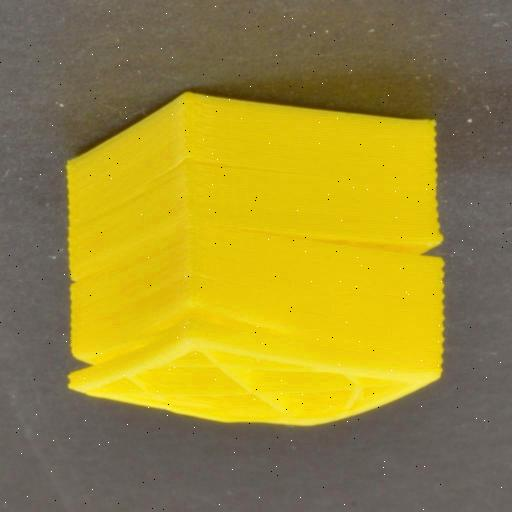cracks: (248, 228, 443, 273), (181, 296, 317, 357), (72, 334, 172, 390), (151, 153, 299, 184)
